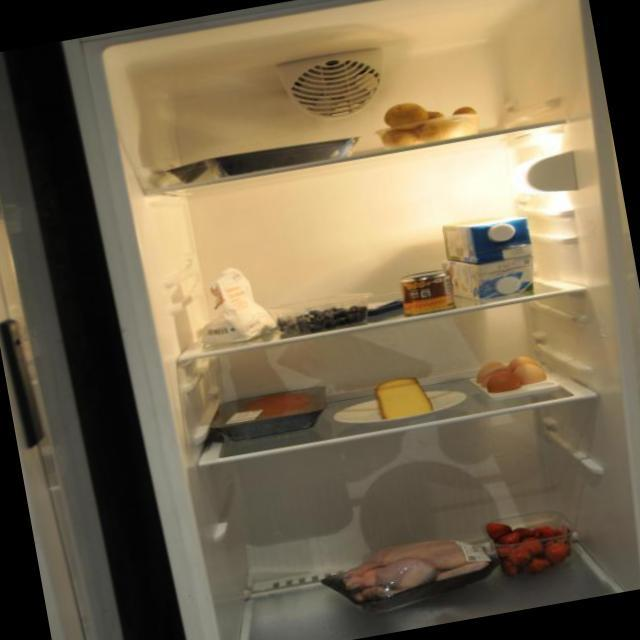Carne pollo: (319, 513, 487, 609)
Huevos: (462, 343, 562, 412)
Queso: (347, 365, 457, 446)
